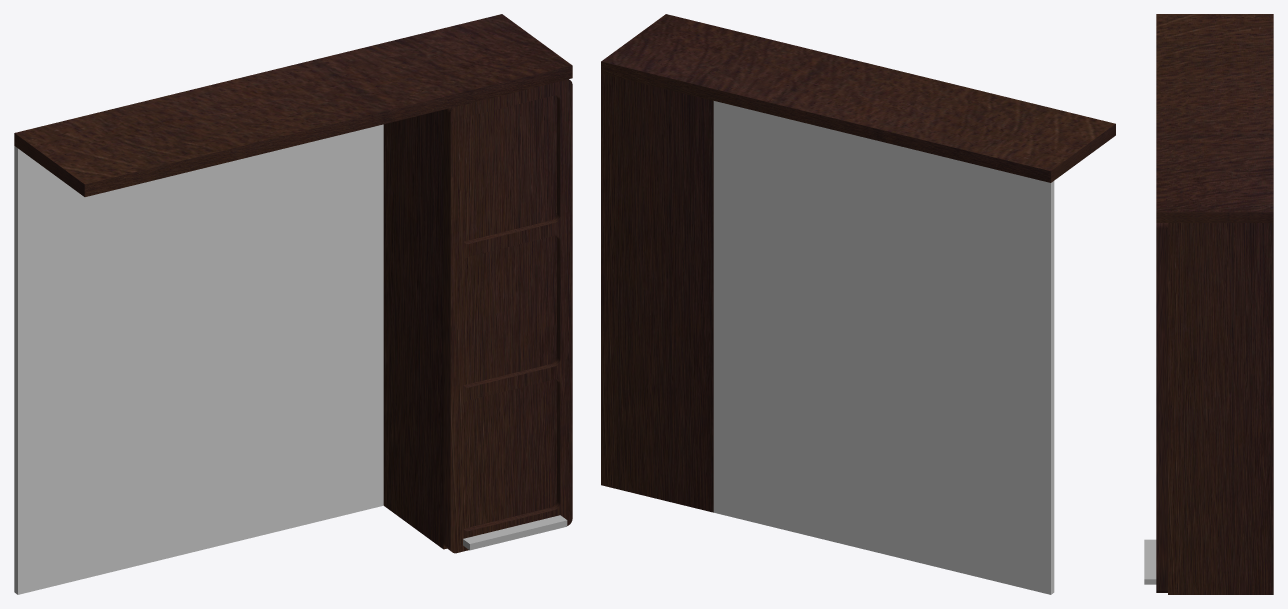
Rendered from mobilettoSpecchioWenge.obj.
3 renders of one model, left to right at view 1: azimuth 30°, elevation 25°; view 2: azimuth 150°, elevation 25°; view 3: azimuth 270°, elevation 25°, orthographic. The views are drawn at different scales.
Parts seen in each view (by area): view 1: sweethome3d_window_mirror, Box08_1, Box05_7, Box07_10, Rectangle05_8, Box06_6; view 2: sweethome3d_window_mirror, Box07_10, Box08_1; view 3: Box07_10, Box08_1, Rectangle05_8, Box06_6.
Part boxes in pixels (box(x1,y1,x2,y2)): sweethome3d_window_mirror: box(14, 124, 383, 594); Box08_1: box(14, 14, 572, 196); Box05_7: box(463, 95, 556, 528); Box07_10: box(383, 110, 446, 549); Rectangle05_8: box(443, 79, 572, 553); Box06_6: box(463, 515, 567, 550); sweethome3d_window_mirror: box(713, 101, 1054, 594); Box07_10: box(601, 73, 713, 512); Box08_1: box(601, 14, 1115, 182); Box07_10: box(1168, 223, 1273, 594); Box08_1: box(1156, 14, 1273, 222); Rectangle05_8: box(1156, 223, 1167, 592); Box06_6: box(1144, 539, 1156, 584).
Size of the model in its own units: 80 by 72 by 22.
